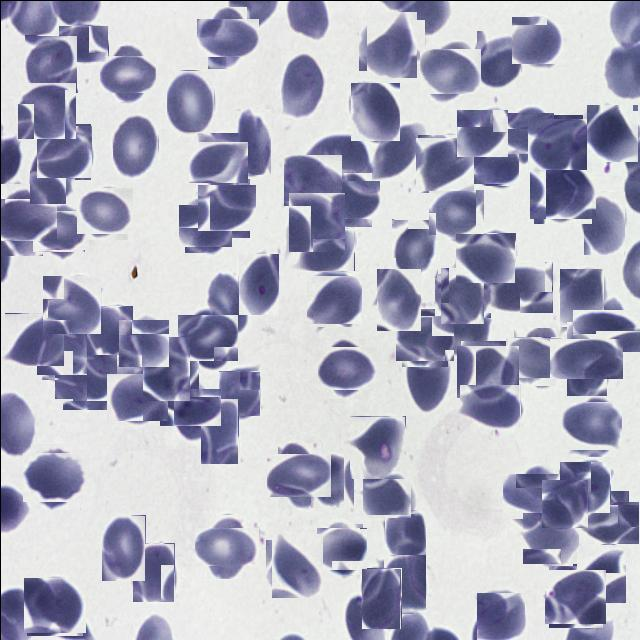red blood cell: (531, 158, 593, 221), (24, 574, 84, 634), (483, 260, 552, 312), (349, 415, 405, 478), (362, 15, 420, 74), (41, 275, 100, 333), (26, 447, 84, 505), (458, 342, 516, 400), (268, 536, 326, 594), (546, 567, 604, 625), (287, 192, 345, 250), (366, 122, 422, 181), (16, 82, 74, 138), (558, 329, 614, 386), (4, 312, 64, 365), (112, 111, 158, 180), (416, 136, 472, 192), (578, 302, 634, 358), (138, 340, 194, 396), (528, 116, 584, 172), (405, 339, 450, 408), (108, 369, 164, 424), (24, 34, 77, 92), (280, 50, 324, 119), (284, 152, 340, 206), (586, 104, 638, 162), (455, 232, 515, 282), (166, 69, 214, 131), (422, 44, 477, 98), (522, 511, 579, 563), (58, 350, 112, 404), (564, 398, 618, 452), (180, 310, 234, 364), (574, 546, 628, 600), (272, 448, 326, 502), (37, 124, 91, 178), (101, 514, 145, 580), (348, 82, 398, 140), (0, 190, 50, 247), (580, 495, 633, 548), (459, 383, 520, 428), (476, 30, 520, 92), (376, 268, 420, 330), (391, 218, 437, 277), (320, 342, 372, 394), (308, 272, 360, 324), (200, 182, 252, 234), (398, 311, 450, 363), (200, 520, 252, 572), (506, 470, 558, 522), (29, 145, 75, 203), (78, 185, 130, 236), (558, 461, 609, 512), (583, 191, 624, 254), (559, 268, 603, 326), (192, 136, 242, 187), (202, 12, 252, 62), (508, 331, 558, 381), (430, 186, 480, 236), (437, 270, 487, 320), (164, 382, 214, 432), (456, 108, 508, 156), (132, 542, 174, 601), (383, 554, 425, 613), (200, 398, 238, 463), (238, 253, 278, 314), (360, 567, 400, 628), (310, 452, 354, 507), (36, 206, 85, 255), (501, 108, 550, 157), (118, 318, 167, 367), (234, 108, 270, 174), (512, 15, 560, 64), (207, 273, 246, 333), (299, 228, 354, 270), (181, 202, 229, 250), (476, 591, 524, 639), (540, 480, 588, 528), (85, 305, 132, 354), (104, 49, 150, 96), (318, 525, 364, 572), (328, 176, 374, 222), (362, 474, 411, 517), (384, 508, 426, 558), (39, 331, 84, 376), (473, 140, 518, 184), (218, 370, 260, 415), (58, 24, 108, 61), (444, 316, 488, 357)
